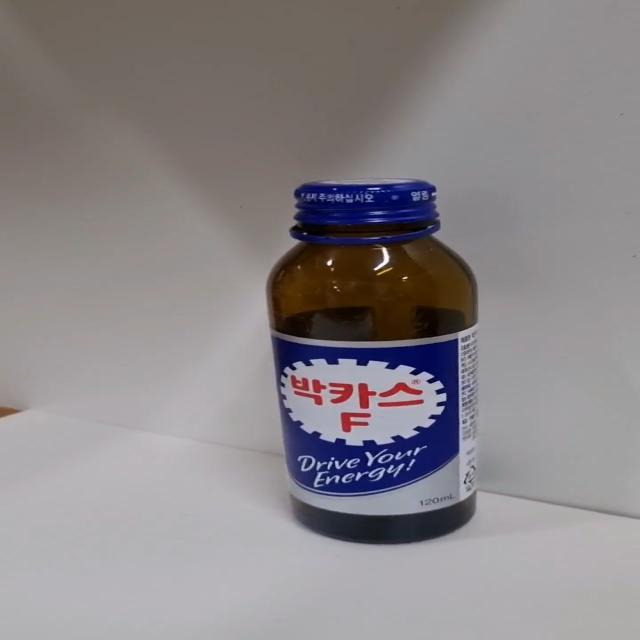Glass: (264, 180, 481, 546)
